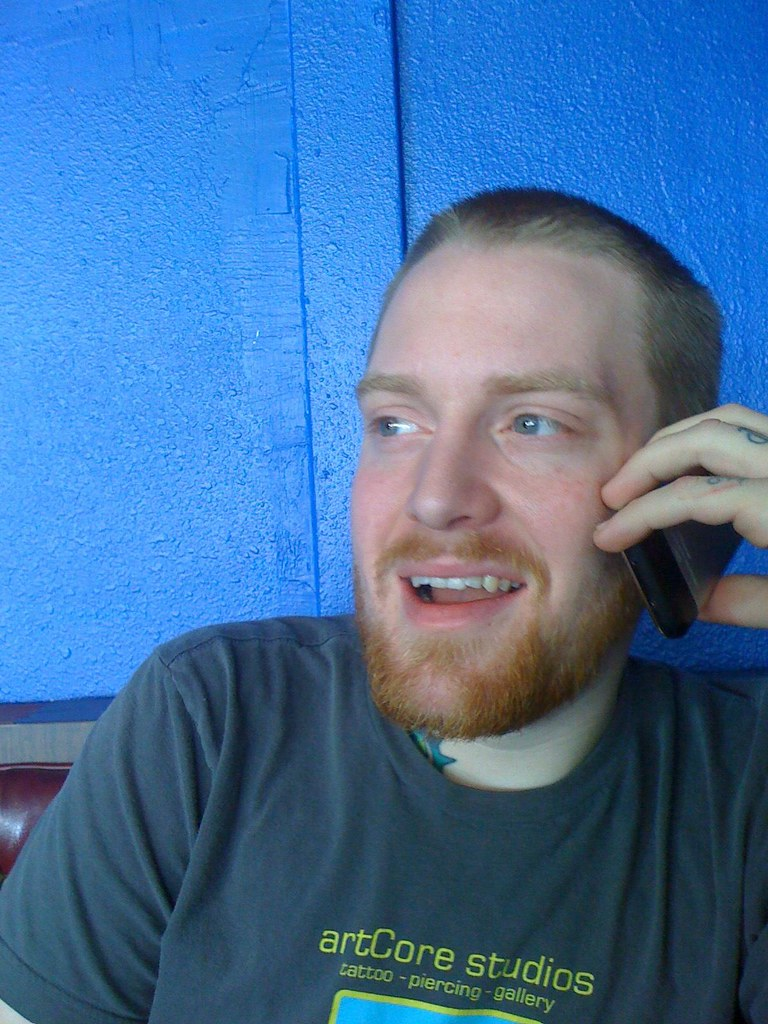phone: (618, 414, 757, 653)
talk: (324, 313, 768, 749)
